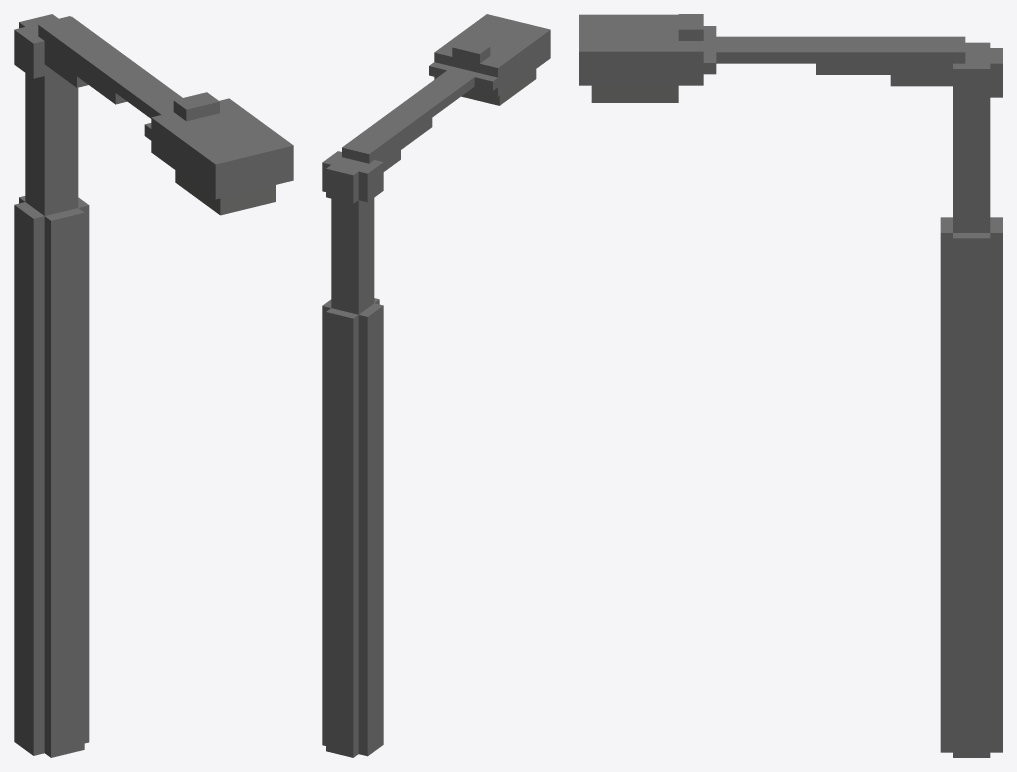
File: lampadaire.obj
3 views of the same model, side by side, from view 1: azimuth 30°, elevation 25°; view 2: azimuth 150°, elevation 25°; view 3: azimuth 270°, elevation 25° (orthographic). The views are drawn at different scales.
Size of the model in its own units: 0.7 by 6.4 by 3.4.
1 material, 1 textured.
